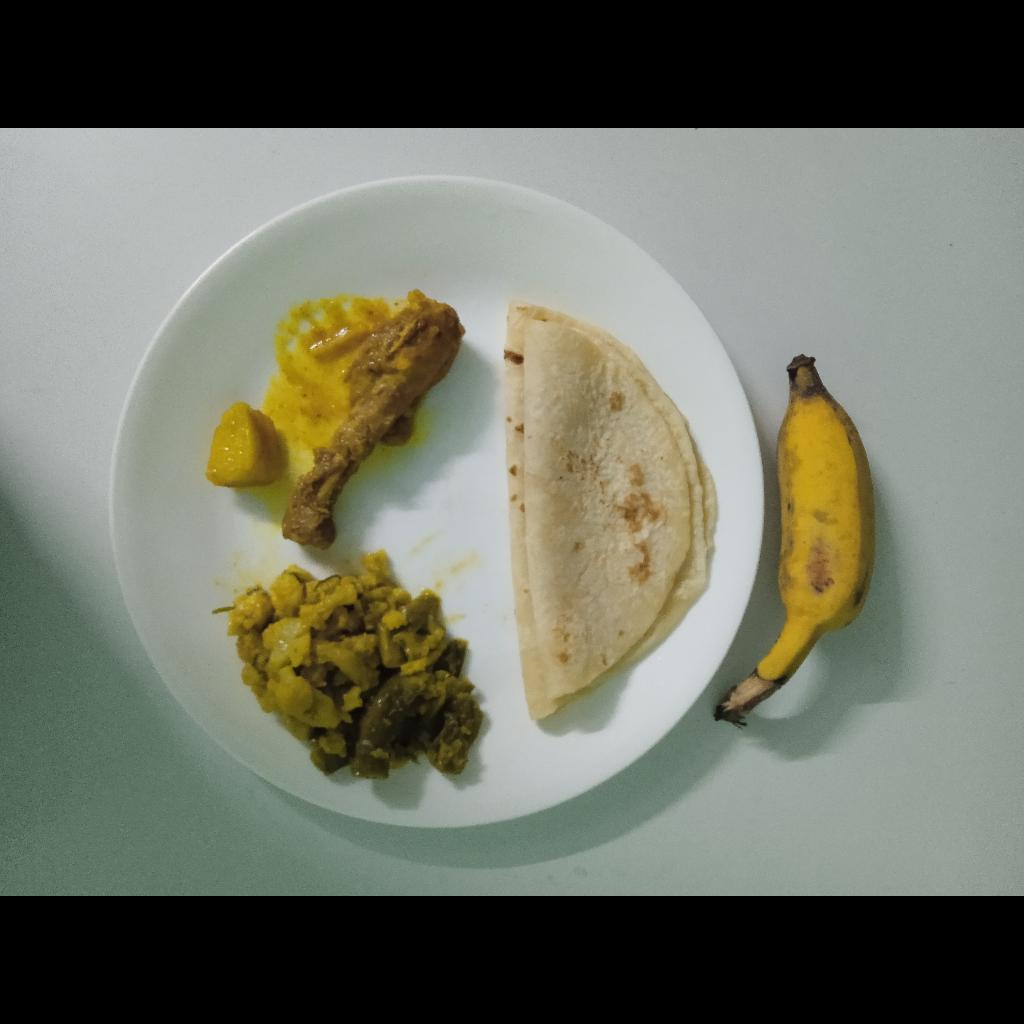banana: (761, 357, 877, 683)
cauliflower: (226, 548, 480, 780)
chicken: (285, 297, 465, 545)
potato: (204, 400, 275, 484)
ruti: (511, 305, 719, 718)
